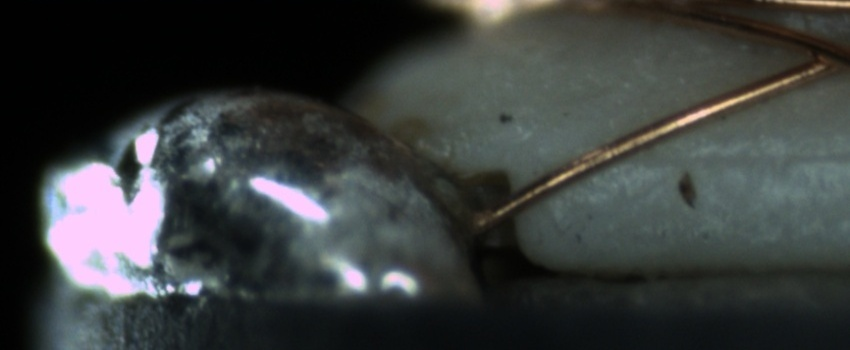CL: (779, 28, 848, 85)
DL: (614, 124, 846, 192)
